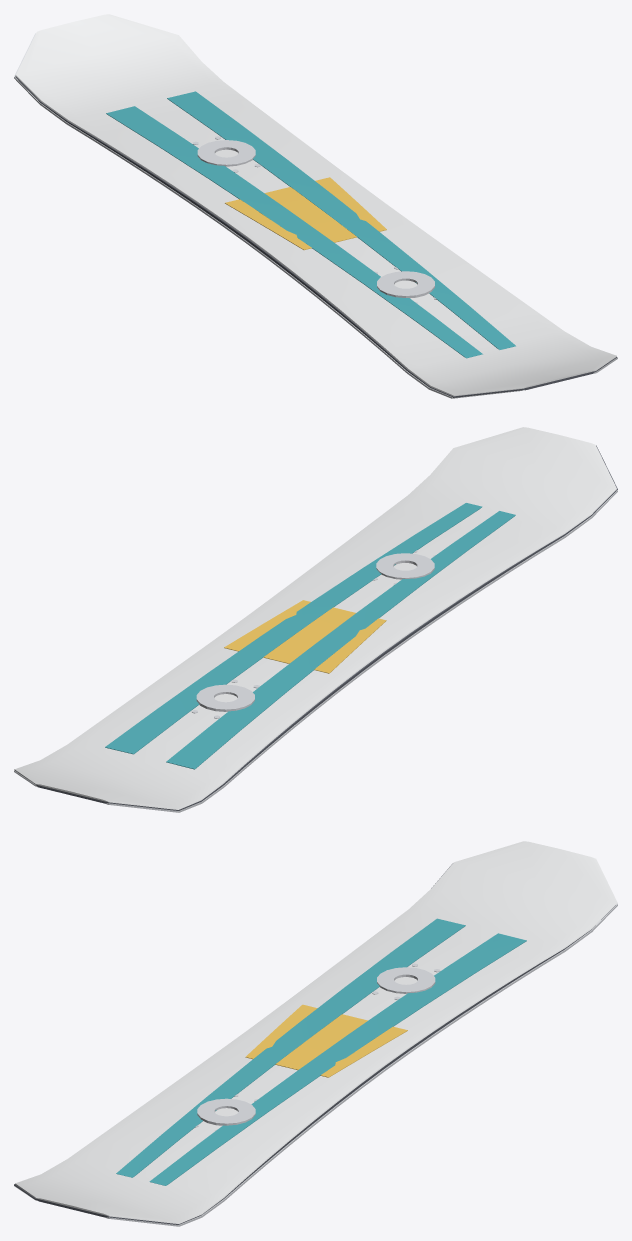
The model's file is snowboard-gear-and-freestyle-riders-freestyle-twin-boa-d82c5eca__22930.glb.
The picture shows the model from 3 angles, top to bottom: view 1: azimuth 30°, elevation 25°; view 2: azimuth 150°, elevation 25°; view 3: azimuth 330°, elevation 25°; orthographic projection.
Parts seen in each view (by area): view 1: freestyle-twin-board; view 2: freestyle-twin-board; view 3: freestyle-twin-board.
Boxes of the visible parts, bbox=[...] form: freestyle-twin-board: bbox=[14, 14, 617, 398]; freestyle-twin-board: bbox=[14, 427, 617, 812]; freestyle-twin-board: bbox=[14, 841, 617, 1226].
Bounding box in the file's own units: 0.2985 × 0.0513 × 1.52.
